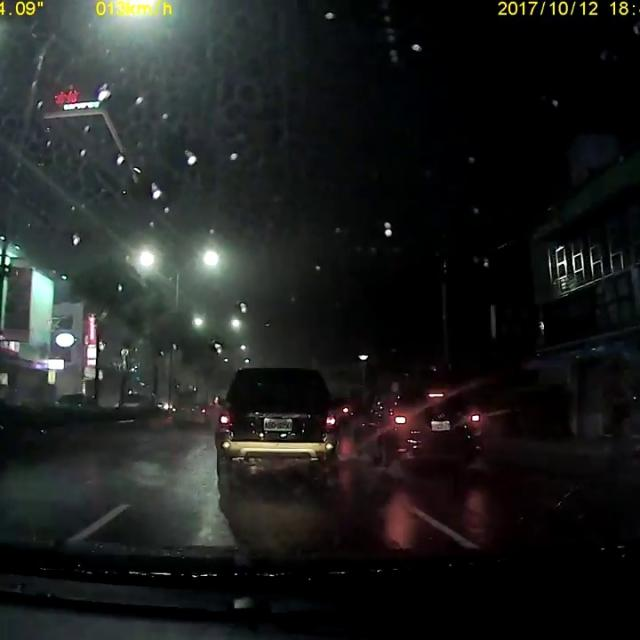Car: (212, 364, 347, 487), (356, 385, 484, 467), (111, 388, 156, 416)
